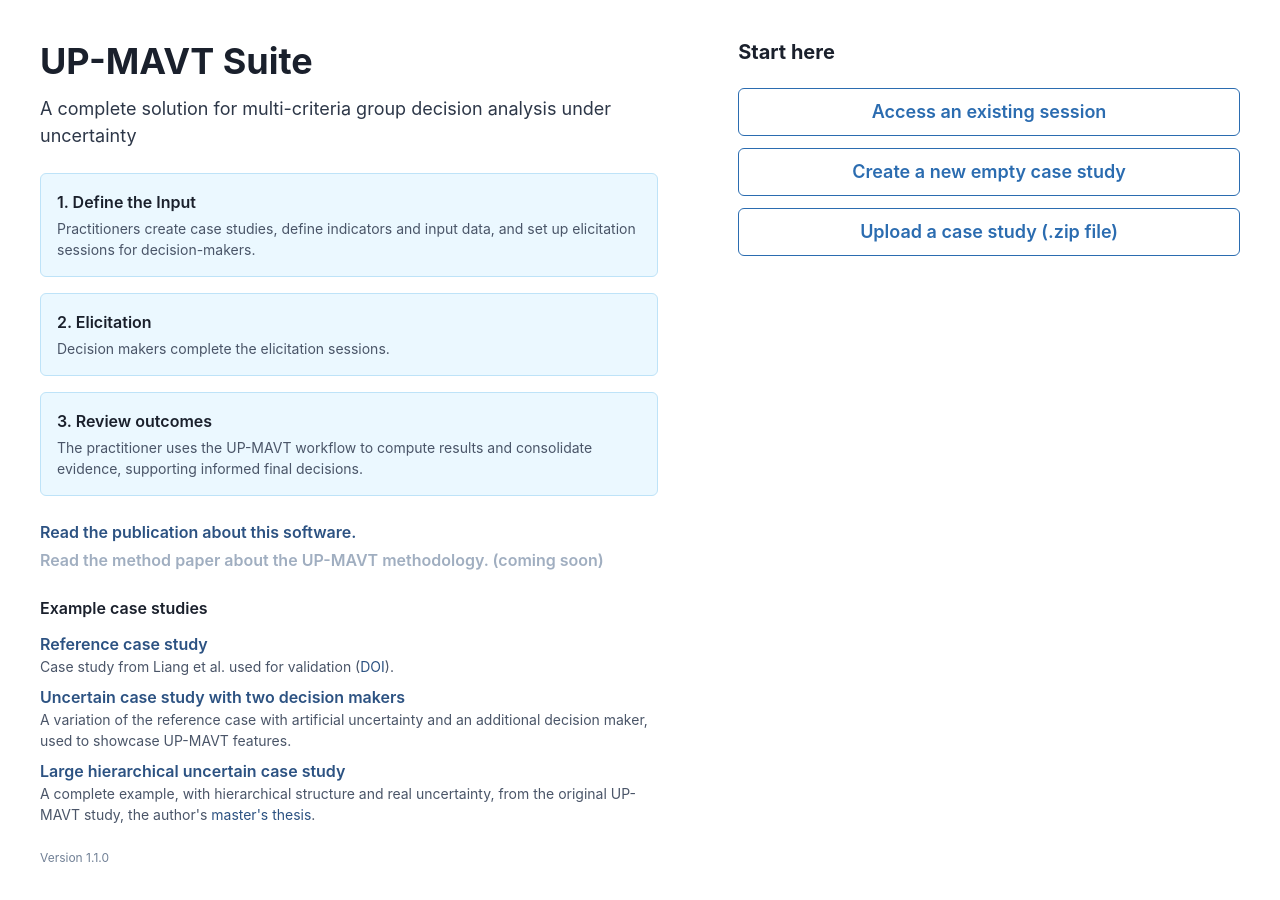
Test: LoginPage – access existing session › shows access controls after choosing the access flow
The width and height of the screenshot is (1280, 900).
Click the button "Access an existing session". click: [989, 112]
box: [738,88,1240,136]
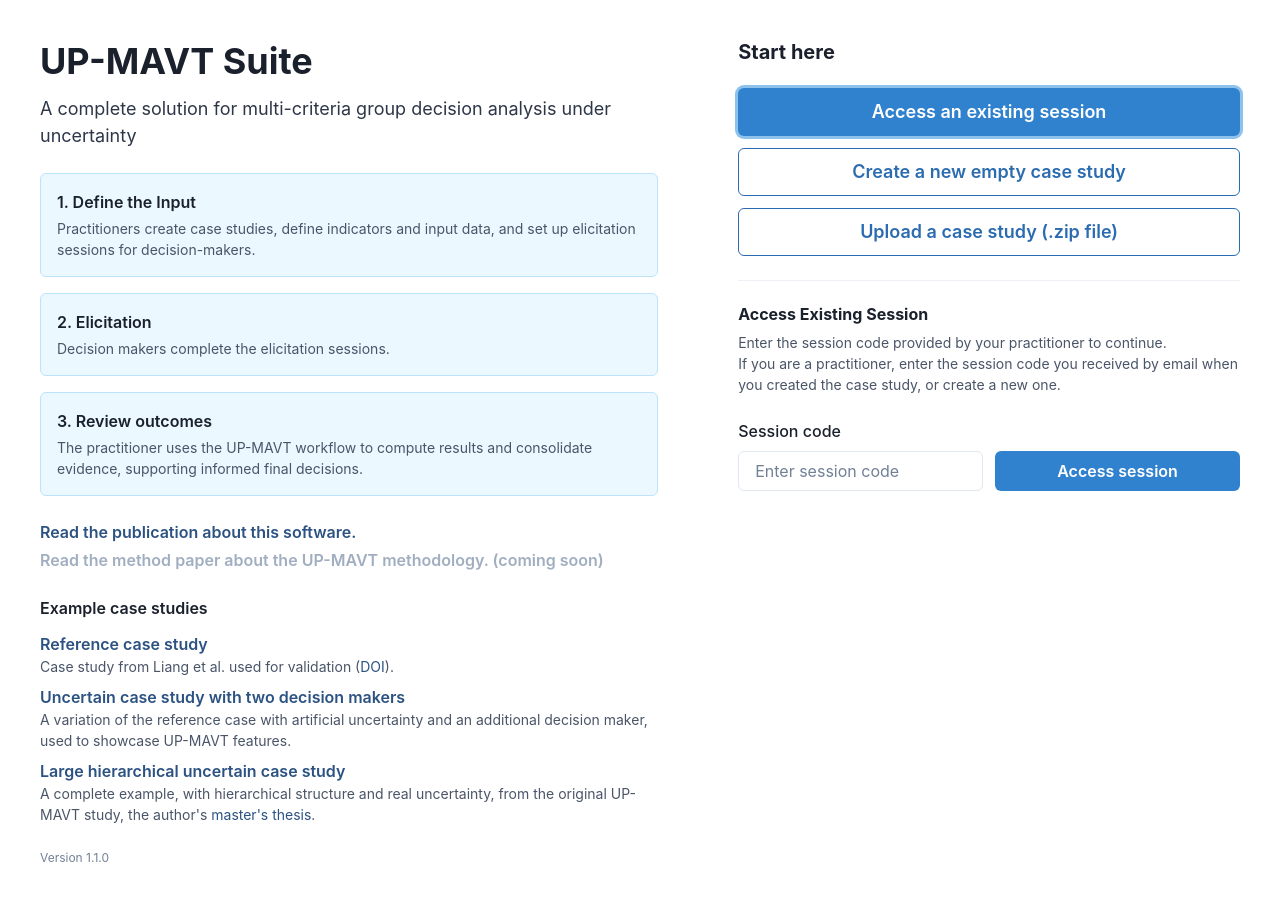
Check: the field with placeholder "Enter session code" is shown, box [738,451,983,491]
Check: the button "Access session" is shown, box [995,451,1240,491]
